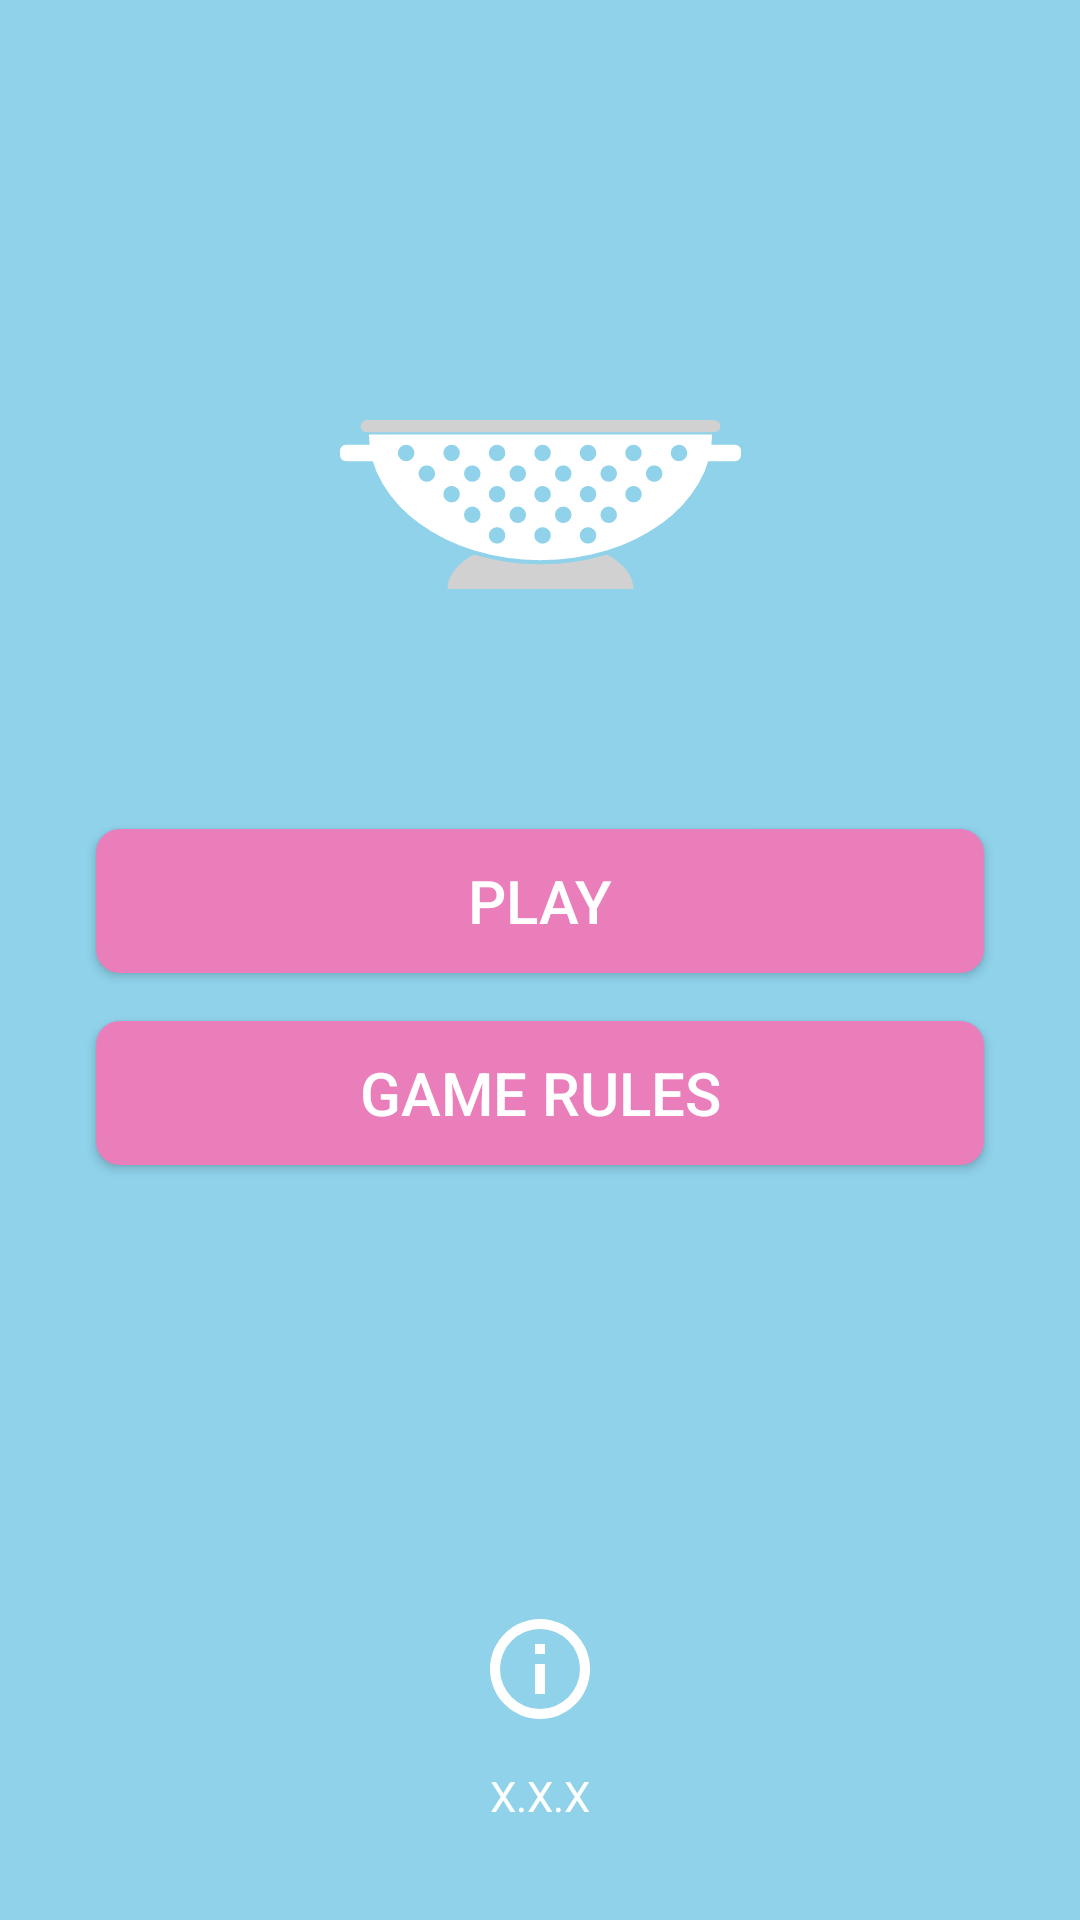

Point at icon controls on the screen. Image size 1080w x 1920h, points as point (x, y).
info: point (540, 1669)
